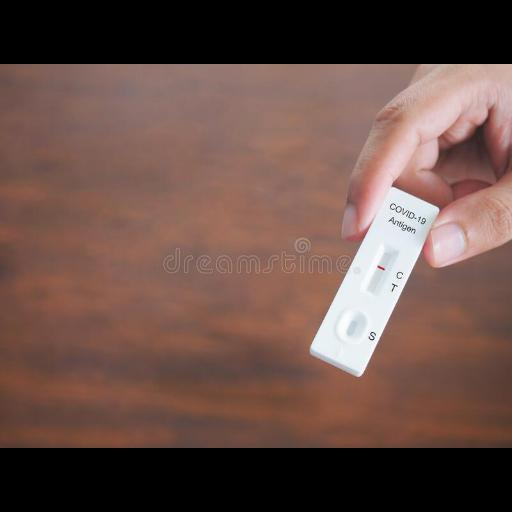Neg: (309, 183, 440, 376)
